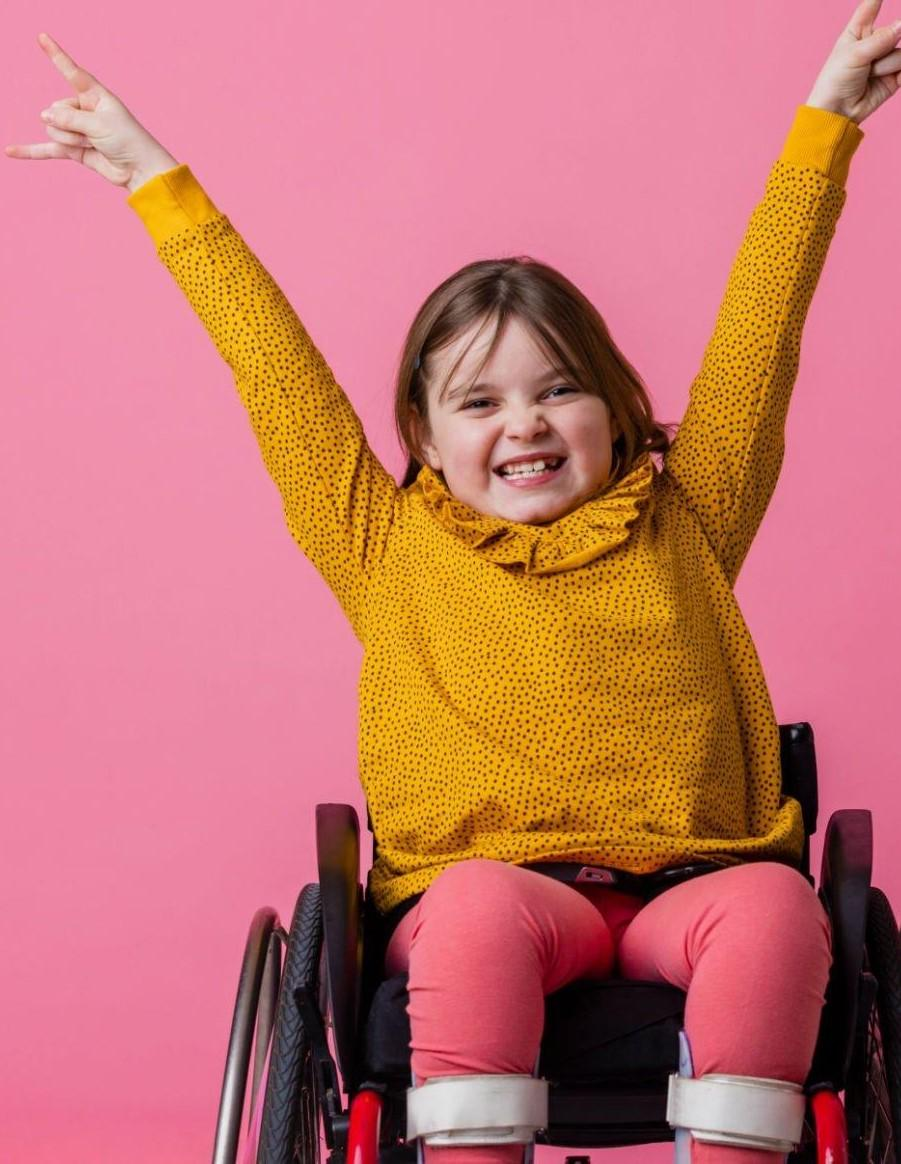Healthy: (414, 311, 629, 526)
